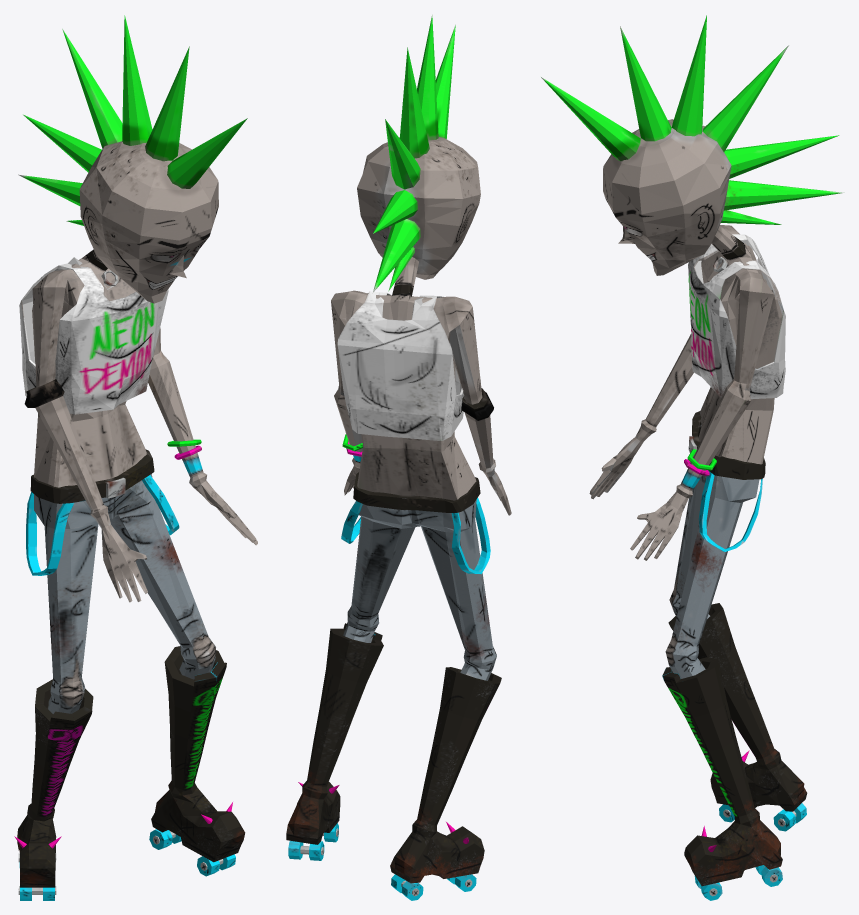
File: punkAnimation_000042.obj
3 views of the same model, side by side, from view 1: azimuth 30°, elevation 25°; view 2: azimuth 150°, elevation 25°; view 3: azimuth 270°, elevation 25° (orthographic). The views are drawn at different scales.
Parts seen in each view (by area): view 1: Cube.004_Cube.003; view 2: Cube.004_Cube.003; view 3: Cube.004_Cube.003.
Part boxes in pixels (x1,y1,x2,y2): Cube.004_Cube.003: (14,15,257,900); Cube.004_Cube.003: (286,15,511,900); Cube.004_Cube.003: (541,15,844,900).
Bounding box in the file's own units: 1.82 × 7.33 × 2.42.
